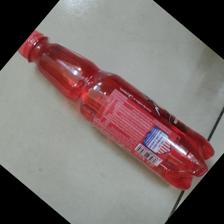Sting: (13, 28, 216, 189)
